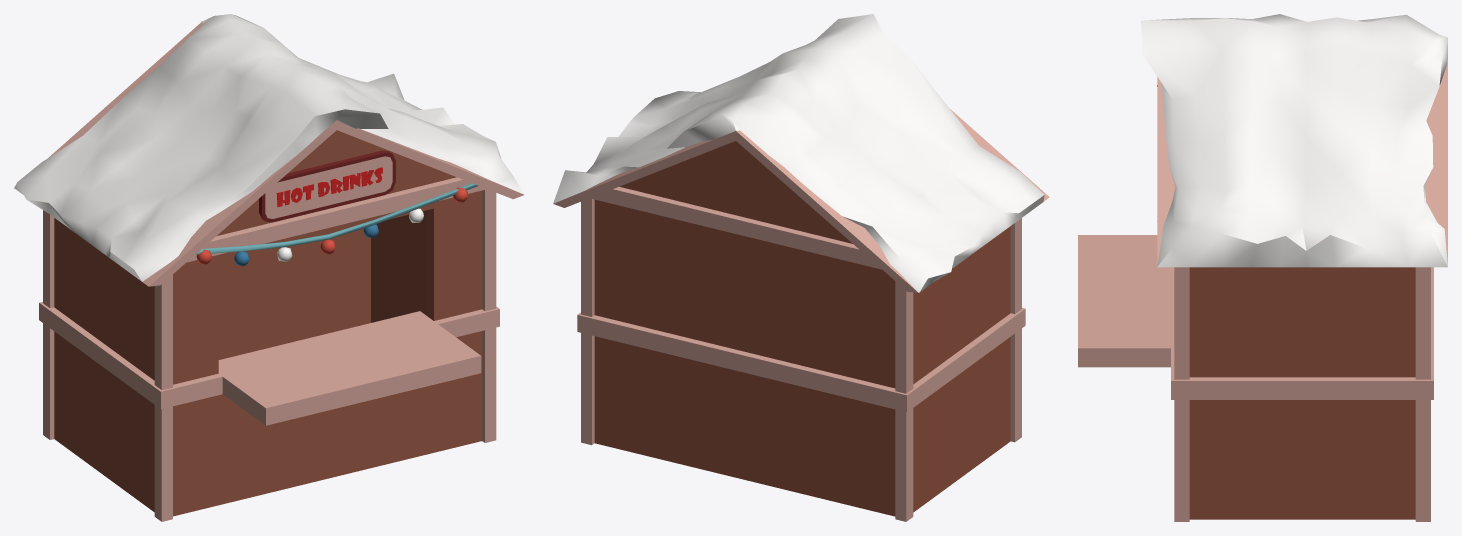
The model's file is Booth_2.glb.
The picture shows the model from 3 angles, left to right: view 1: azimuth 30°, elevation 25°; view 2: azimuth 150°, elevation 25°; view 3: azimuth 270°, elevation 25°; orthographic projection. The views are drawn at different scales.
Visible parts, largest first — view 1: Booth_2; view 2: Booth_2; view 3: Booth_2.
Part boxes in pixels (x1,y1,x2,y2): Booth_2: (14, 14, 524, 521); Booth_2: (553, 14, 1049, 521); Booth_2: (1078, 14, 1447, 521).
Size of the model in its own units: 1.68 by 1.58 by 1.27.
1 material, 1 textured.
